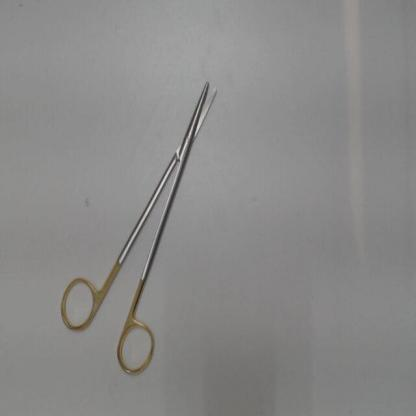7 Metzenbaum Scissors: (56, 72, 222, 382)
